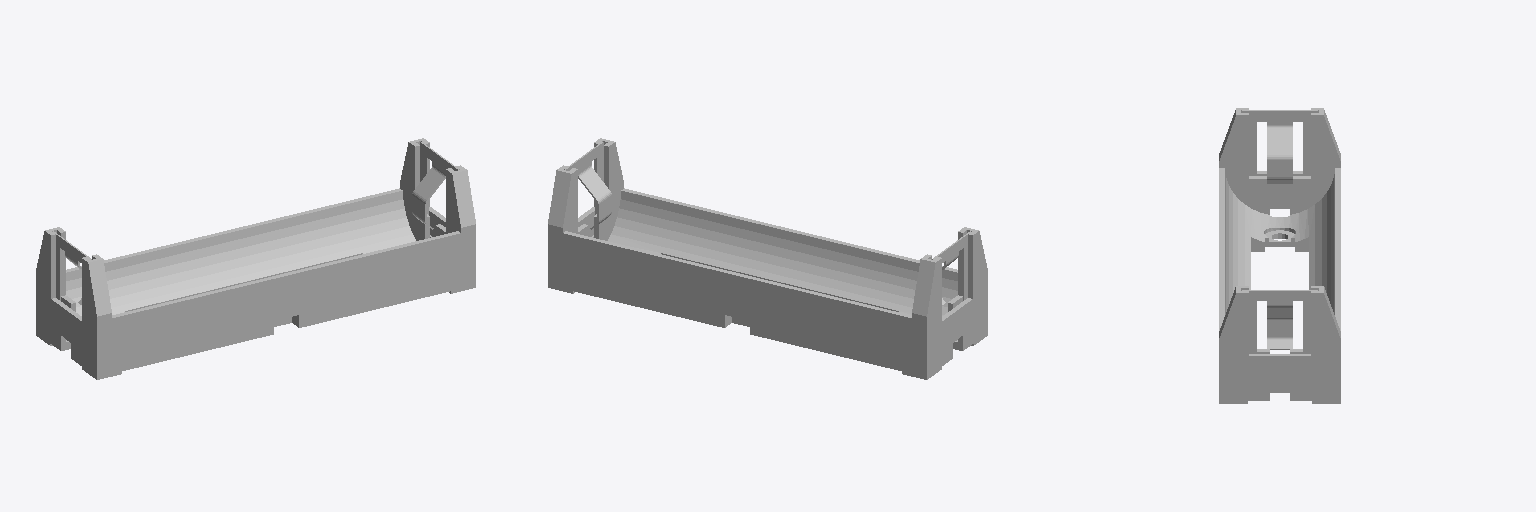
Rendered from AA Single Cell Holder.obj.
3 renders of one model, left to right at view 1: azimuth 30°, elevation 25°; view 2: azimuth 150°, elevation 25°; view 3: azimuth 270°, elevation 25°, orthographic.
Parts seen in each view (by area): view 1: Solid1, Solid3, Solid2; view 2: Solid1, Solid3, Solid2; view 3: Solid1, Solid2, Solid3.
Boxes of the visible parts, x1=… form: Solid1: x1=36, y1=138, x2=475, y2=379; Solid3: x1=412, y1=142, x2=459, y2=237; Solid2: x1=53, y1=231, x2=91, y2=342; Solid1: x1=548, y1=138, x2=987, y2=379; Solid3: x1=564, y1=142, x2=611, y2=237; Solid2: x1=932, y1=231, x2=970, y2=342; Solid1: x1=1219, y1=108, x2=1340, y2=403; Solid2: x1=1242, y1=110, x2=1317, y2=208; Solid3: x1=1242, y1=290, x2=1317, y2=387.
Size of the model in its own units: 75 by 21 by 21.